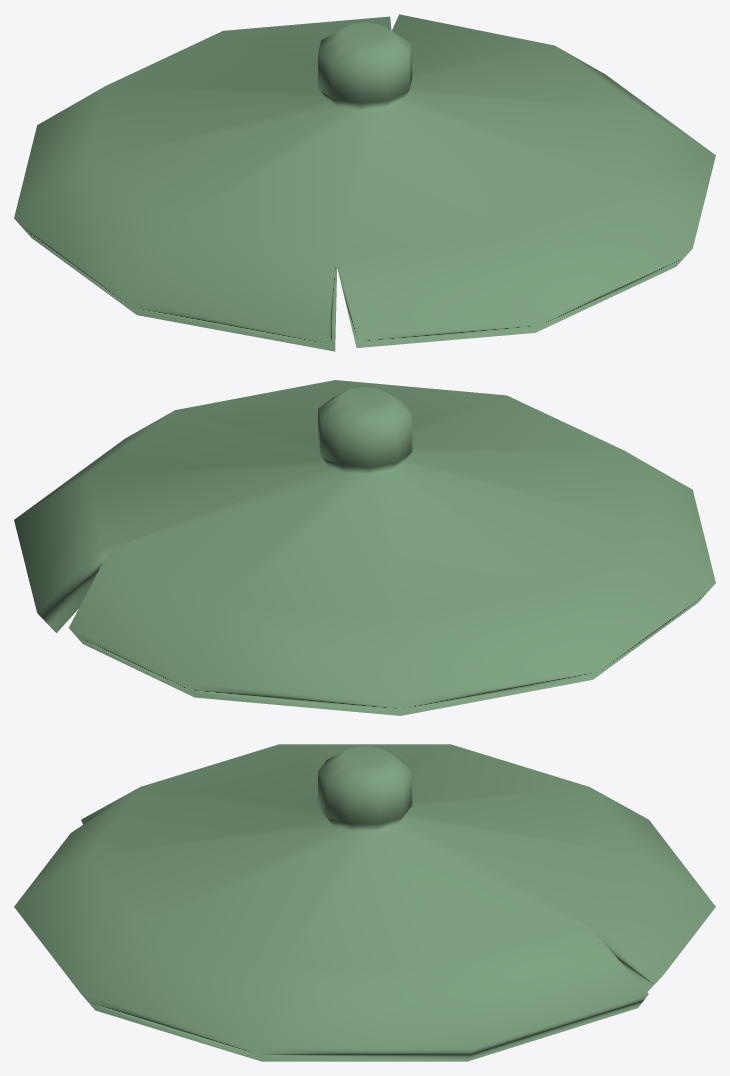
Rendered from Seto_TeapotLid_L.fbx.
3 views of the same model, one above another, from view 1: azimuth 30°, elevation 25°; view 2: azimuth 150°, elevation 25°; view 3: azimuth 270°, elevation 25° (orthographic). The views are drawn at different scales.
Visible parts, largest first — view 1: Seto_TeapotLid_L; view 2: Seto_TeapotLid_L; view 3: Seto_TeapotLid_L.
Boxes of the visible parts, x1,y1,x2,y2 form: Seto_TeapotLid_L: [14, 14, 715, 351]; Seto_TeapotLid_L: [14, 380, 715, 715]; Seto_TeapotLid_L: [14, 744, 715, 1061].
Bounding box in the file's own units: 18.61 × 5.29 × 19.56.
1 material, 1 textured.
